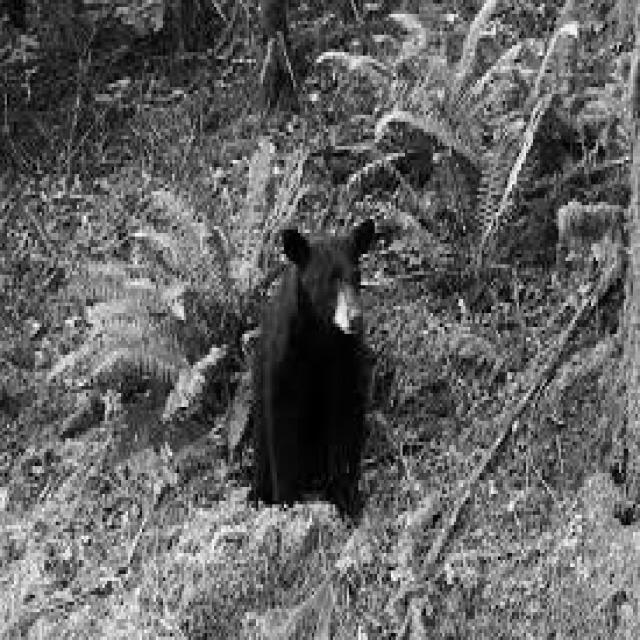Bear: (248, 215, 376, 525)
